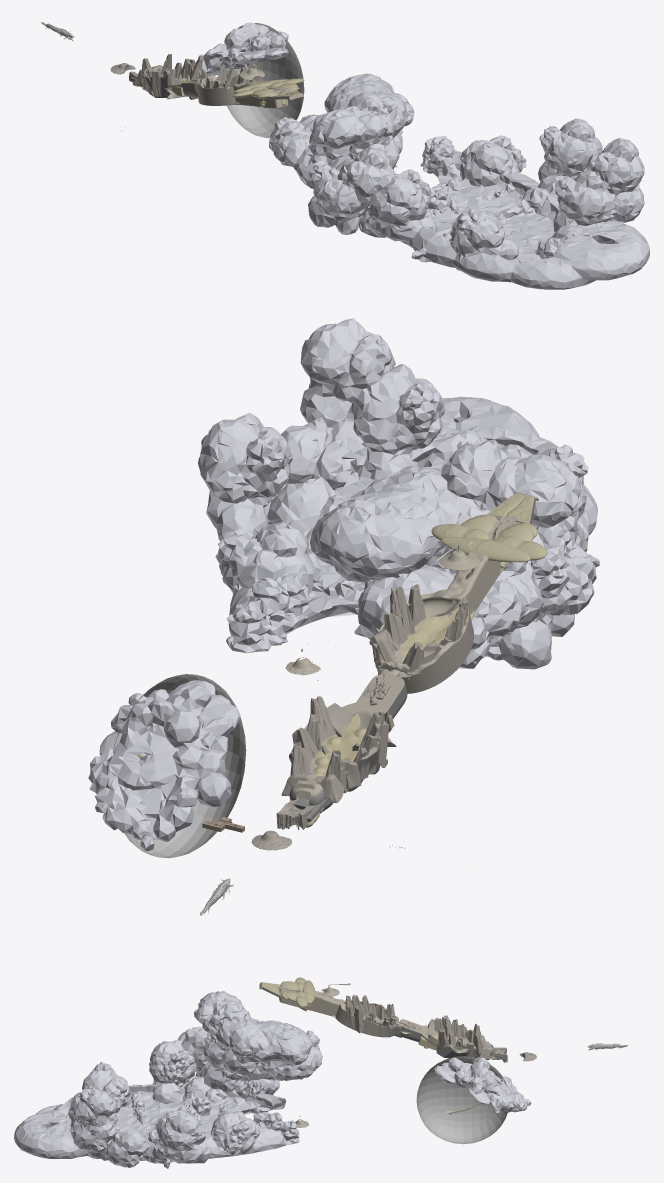
Rendered from BstBaked.glb.
3 renders of one model, top to bottom at view 1: azimuth 30°, elevation 25°; view 2: azimuth 150°, elevation 25°; view 3: azimuth 270°, elevation 25°, orthographic. The views are drawn at different scales.
Visible parts, largest first — view 1: BstBaked_cloud, BstBaked_terrain, BstBaked_UnitSphereFlipped; view 2: BstBaked_cloud, BstBaked_terrain, BstBaked_UnitSphereFlipped; view 3: BstBaked_cloud, BstBaked_terrain, BstBaked_UnitSphereFlipped.
Part boxes in pixels (bbox=[...]): BstBaked_cloud: bbox=[195, 22, 649, 289]; BstBaked_terrain: bbox=[110, 54, 397, 171]; BstBaked_UnitSphereFlipped: bbox=[219, 23, 304, 137]; BstBaked_cloud: bbox=[88, 318, 599, 850]; BstBaked_terrain: bbox=[135, 492, 547, 850]; BstBaked_UnitSphereFlipped: bbox=[113, 674, 246, 858]; BstBaked_cloud: bbox=[14, 991, 531, 1168]; BstBaked_terrain: bbox=[259, 977, 536, 1127]; BstBaked_UnitSphereFlipped: bbox=[416, 1056, 507, 1144].
Size of what is drawn, in the model's own units: 1622 by 589 by 2724.
